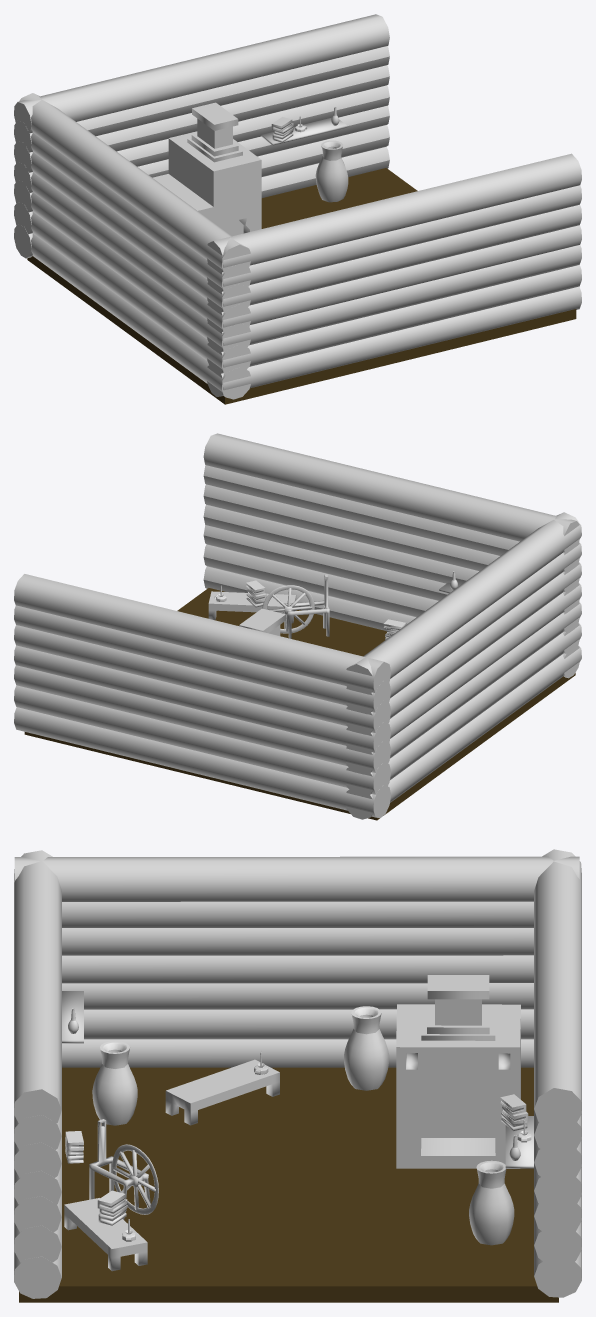
Rendered from wall.fbx.
3 views of the same model, one above another, from view 1: azimuth 30°, elevation 25°; view 2: azimuth 150°, elevation 25°; view 3: azimuth 270°, elevation 25° (orthographic). The views are drawn at different scales.
Visible parts, largest first — view 1: wall.002, wall, wall.001, floor, pechka, kuvshin.002, shelf.003; view 2: wall, wall.002, wall.001, floor, pralnaya_machine, lavka, pechka; view 3: wall.001, floor, pechka, wall.002, wall, lavka.001, kuvshin.003, kuvshin.002, kuvshin.001, pralnaya_machine, lavka, shelf (+4 smaller).
Part boxes in pixels (bbox=[...]): wall.002: bbox=[207, 153, 581, 396]; wall: bbox=[14, 14, 389, 258]; wall.001: bbox=[19, 93, 250, 399]; floor: bbox=[27, 168, 576, 404]; pechka: bbox=[152, 102, 261, 236]; kuvshin.002: bbox=[315, 140, 348, 202]; shelf.003: bbox=[261, 117, 347, 145]; wall: bbox=[14, 574, 390, 818]; wall.002: bbox=[203, 433, 579, 678]; wall.001: bbox=[346, 512, 581, 819]; floor: bbox=[24, 588, 575, 820]; pralnaya_machine: bbox=[262, 574, 329, 638]; lavka: bbox=[208, 591, 296, 623]; pechka: bbox=[239, 608, 285, 635]; wall.001: bbox=[14, 856, 579, 1067]; floor: bbox=[19, 1067, 558, 1302]; pechka: bbox=[396, 975, 520, 1168]; wall.002: bbox=[14, 850, 61, 1298]; wall: bbox=[534, 849, 581, 1297]; lavka.001: bbox=[165, 1059, 279, 1125]; kuvshin.003: bbox=[344, 1006, 389, 1090]; kuvshin.002: bbox=[469, 1160, 514, 1245]; kuvshin.001: bbox=[92, 1041, 137, 1125]; pralnaya_machine: bbox=[89, 1119, 158, 1219]; lavka: bbox=[64, 1198, 147, 1271]; shelf: bbox=[62, 991, 83, 1043].
Size of the model in its own units: 7182 by 3019 by 7186.
